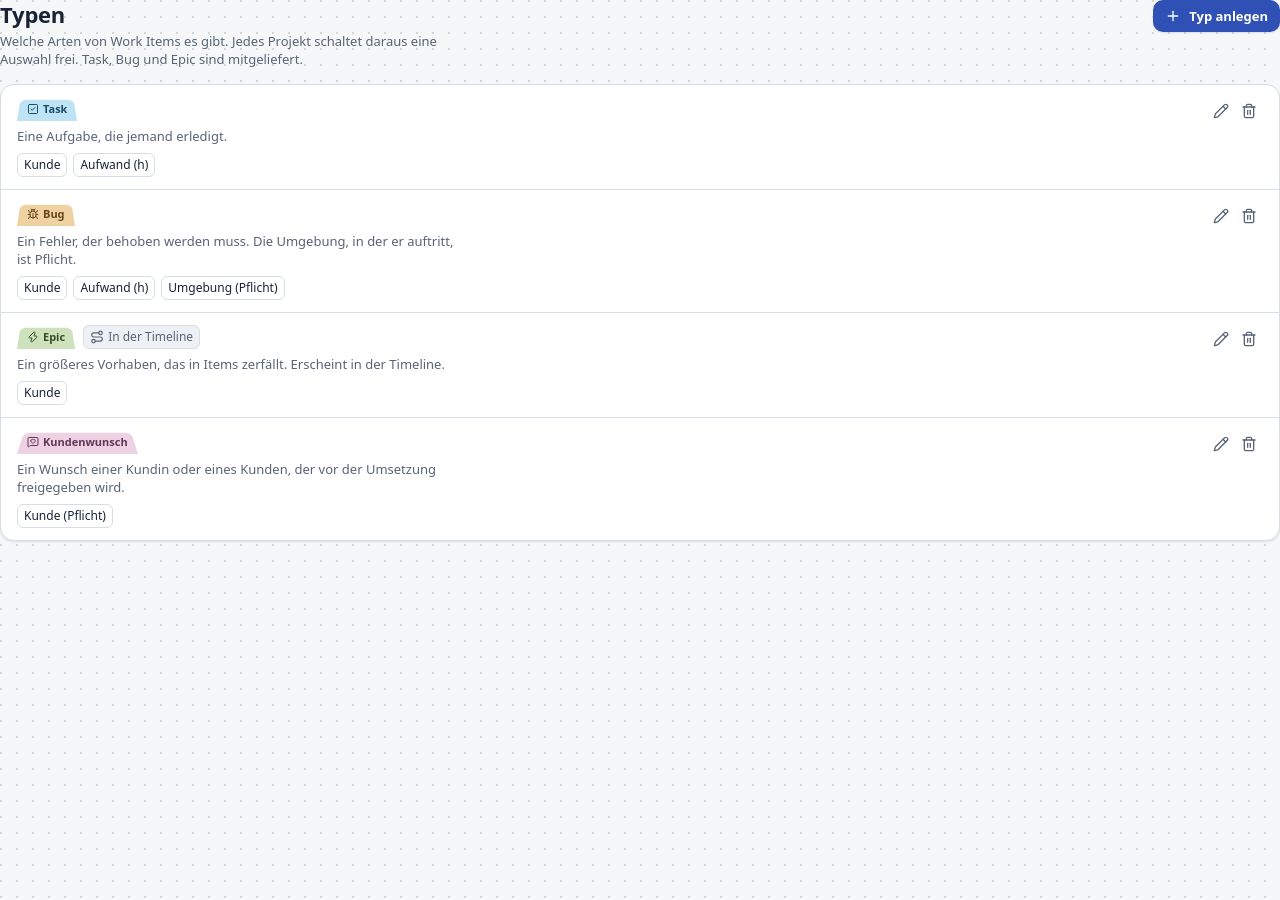
Types › shows a refusal of the icon at the icons, with the focus on the chosen one, and one without a field on top
Click the button named "Typ „Task“ bearbeiten": click(1221, 111) [1207,97,1235,125]
(page scrolled)
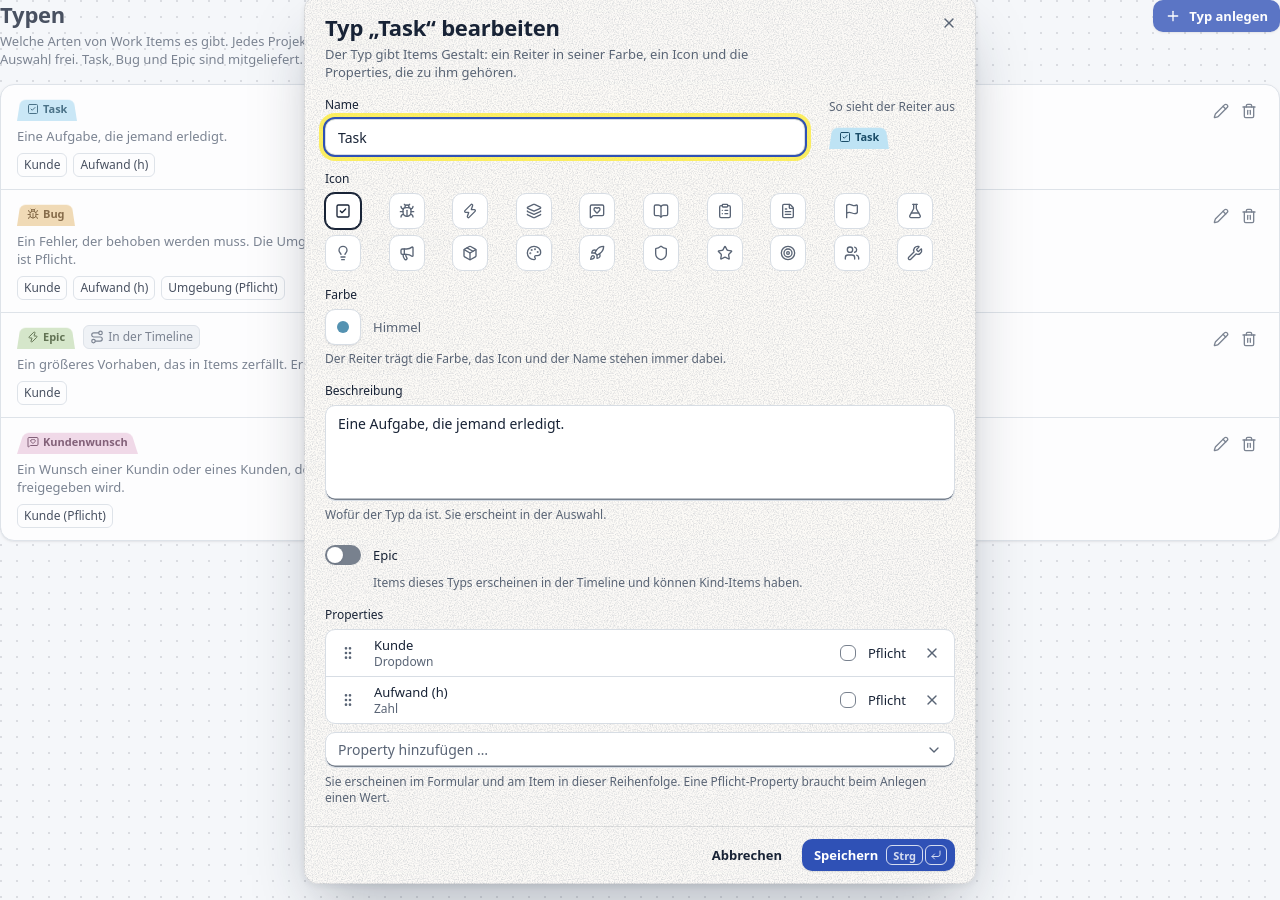
Click the button "Speichern Strg": click(878, 855) [802,839,955,871]
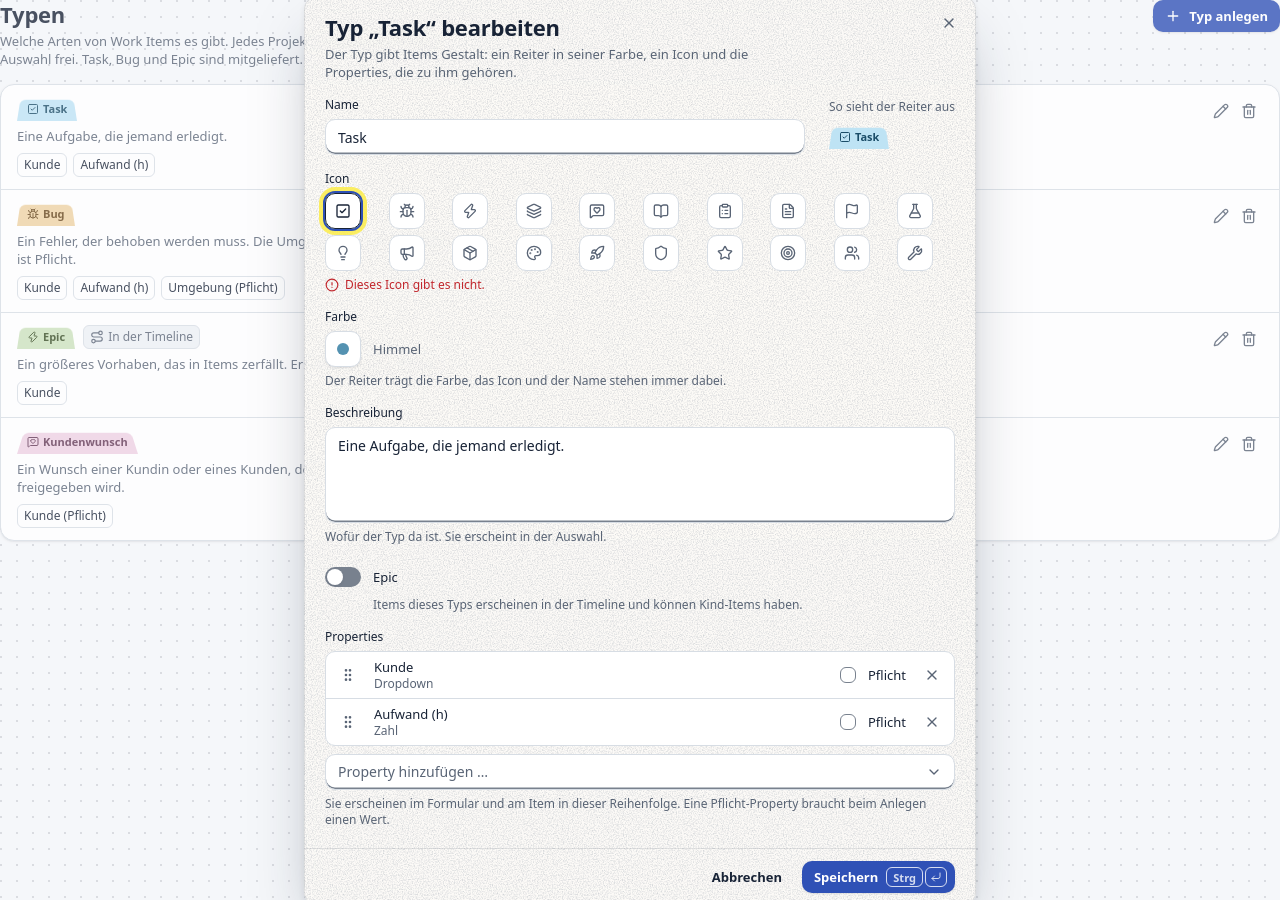
Expected: the text "Dieses Icon gibt es nicht." is shown, [325,276,485,293]
Click the button "Speichern Strg": click(878, 877) [802,861,955,893]
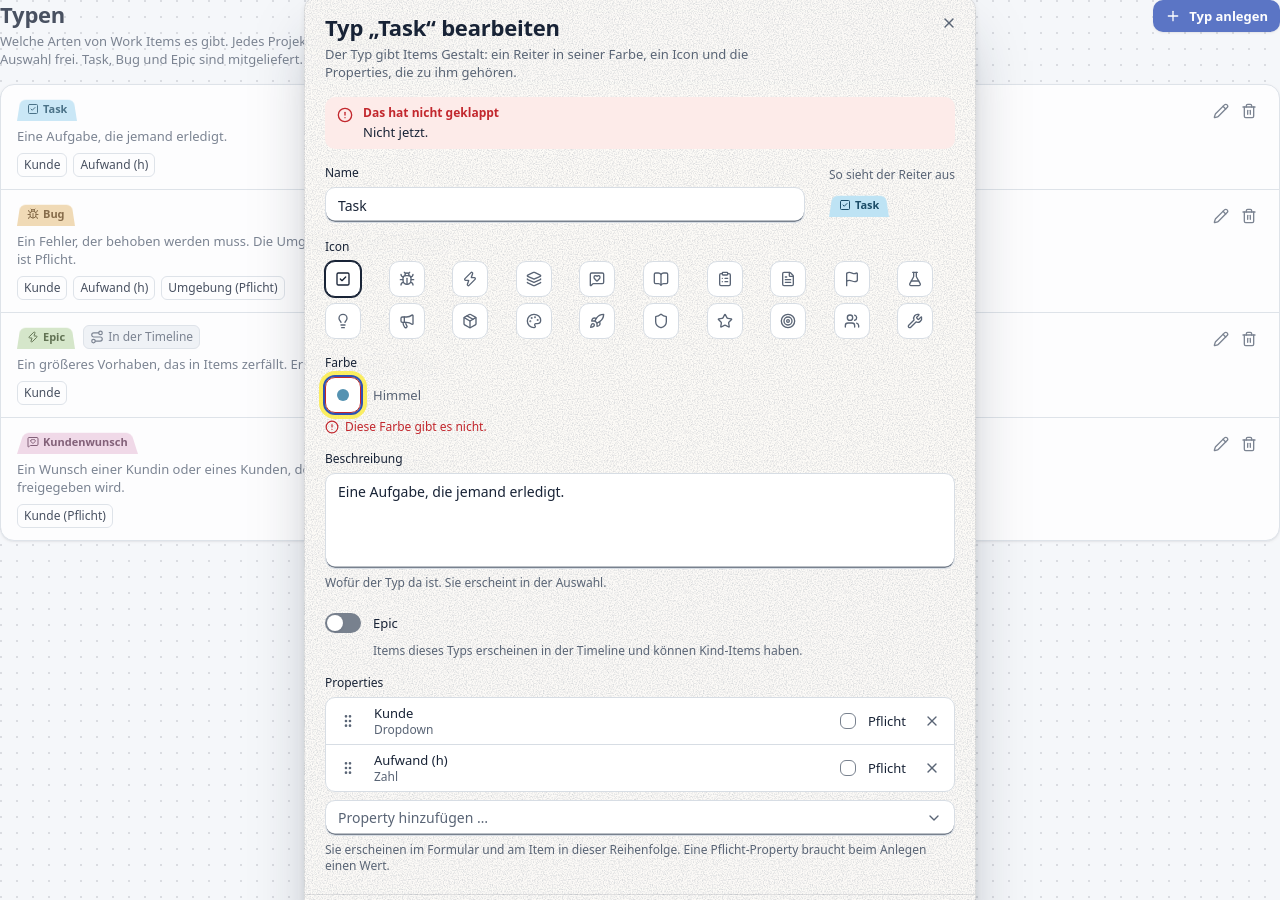
Expected: the text "Diese Farbe gibt es nicht." is shown, [325,418,487,435]
Expected: the message shows "Nicht jetzt.", [363,123,428,141]
